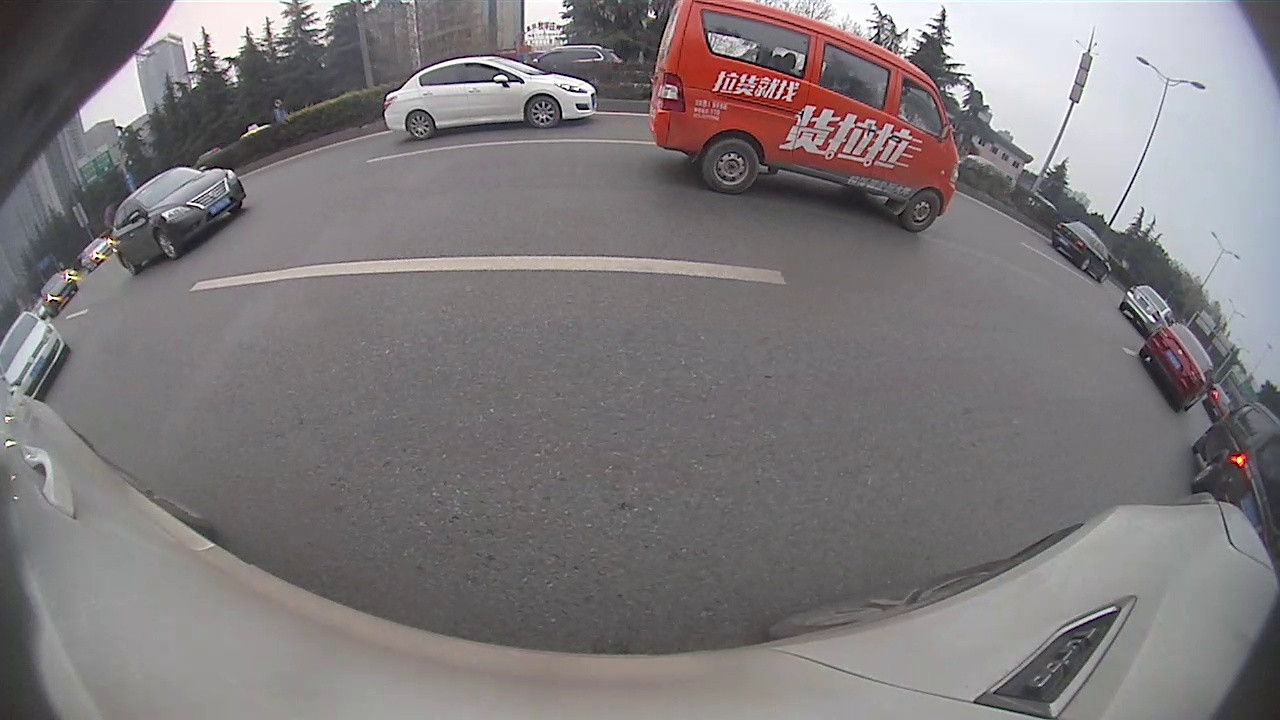car: (647, 2, 961, 234), (381, 56, 598, 141), (110, 166, 246, 277), (1192, 401, 1278, 560), (1139, 321, 1216, 415), (1, 310, 68, 402), (1050, 219, 1112, 285), (1120, 283, 1176, 336)
front: (899, 186, 942, 236), (524, 94, 563, 133), (153, 227, 182, 264)
rear: (700, 136, 761, 196), (405, 109, 436, 141), (119, 252, 141, 279)
